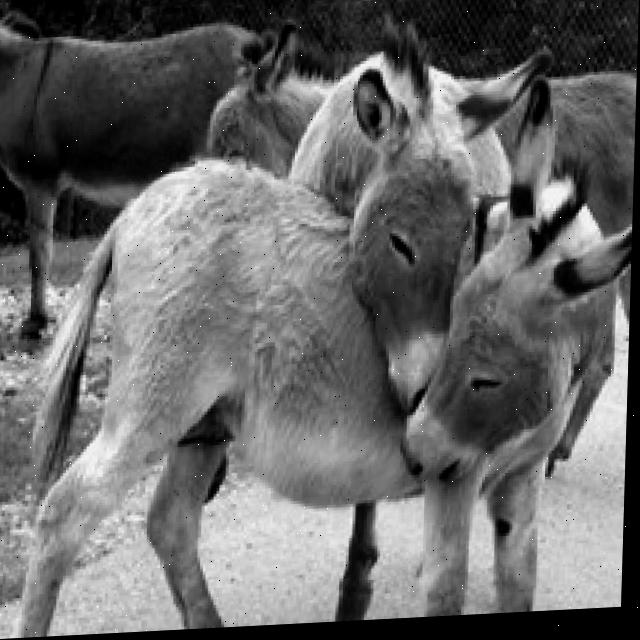Donkey: (0, 11, 556, 636), (194, 1, 636, 495), (395, 150, 632, 616), (0, 0, 266, 348)
